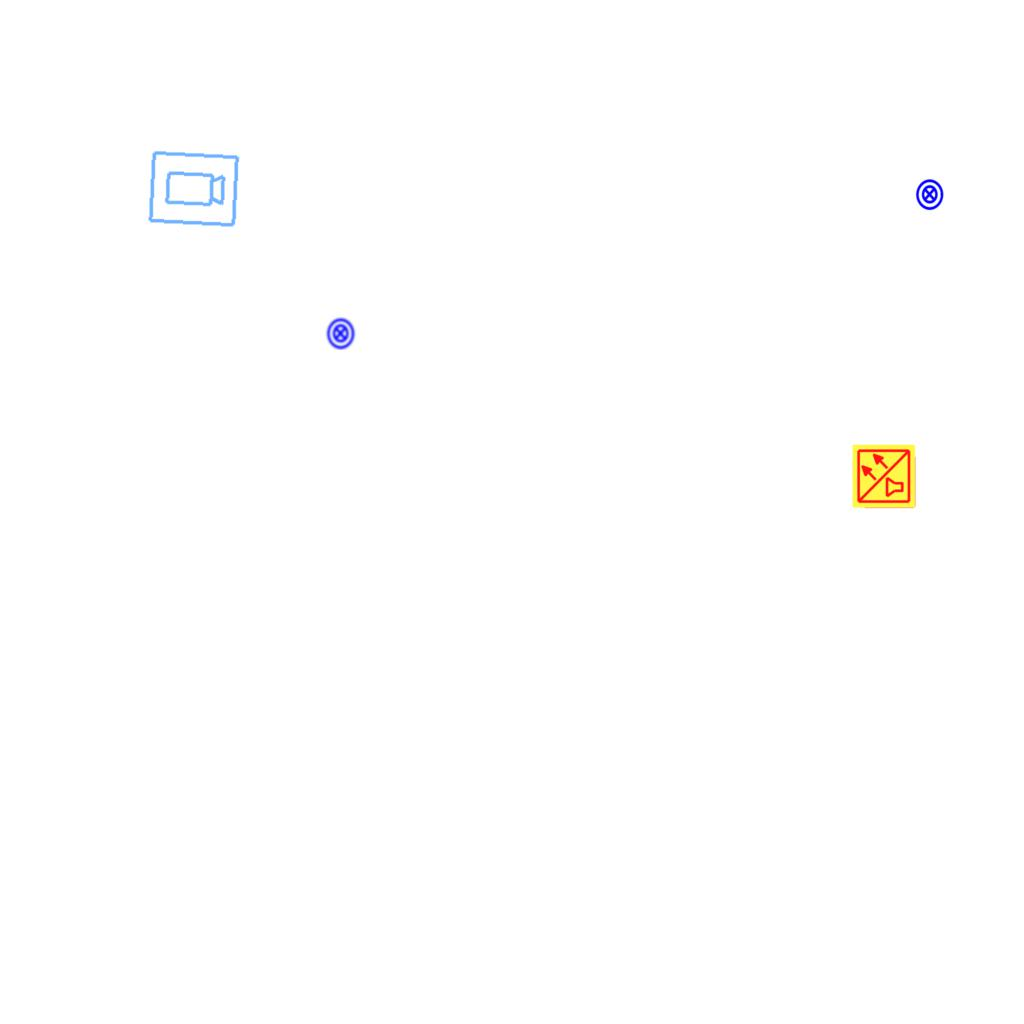KFO_Kamera_mit_Festobjektiv: (146, 148, 241, 231)
OKW_Multisensormelder_(Kombination_optischer_Rauch-Kahlenmonoxid_Waerme-Melder): (851, 443, 917, 509)
Taster_beleuchtet: (913, 178, 946, 211), (324, 317, 357, 350)
